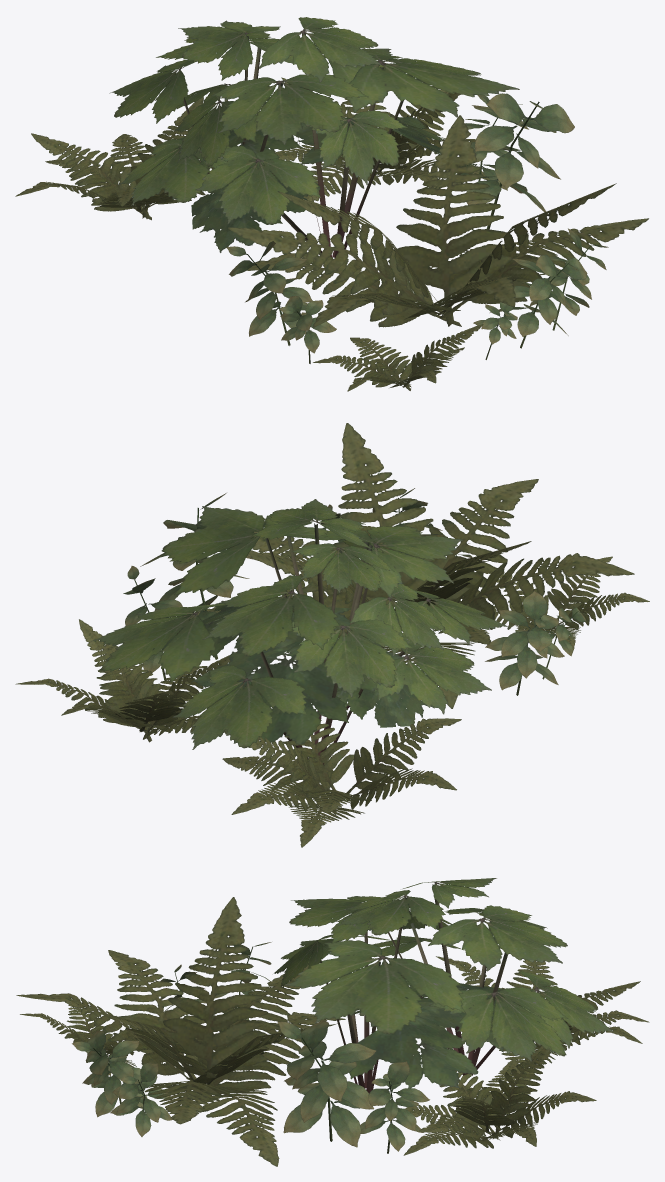
Rendered from Bush3.fbx.
3 renders of one model, top to bottom at view 1: azimuth 30°, elevation 25°; view 2: azimuth 150°, elevation 25°; view 3: azimuth 270°, elevation 25°, orthographic. The views are drawn at different scales.
Parts seen in each view (by area): view 1: SM_cmn_mount_Bush_03a; view 2: SM_cmn_mount_Bush_03a; view 3: SM_cmn_mount_Bush_03a.
Boxes of the visible parts, x1,y1,x2,y2 form: SM_cmn_mount_Bush_03a: (15, 17, 648, 391); SM_cmn_mount_Bush_03a: (15, 423, 649, 847); SM_cmn_mount_Bush_03a: (16, 878, 649, 1166).
Size of the model in its own units: 119 by 56.66 by 164.
